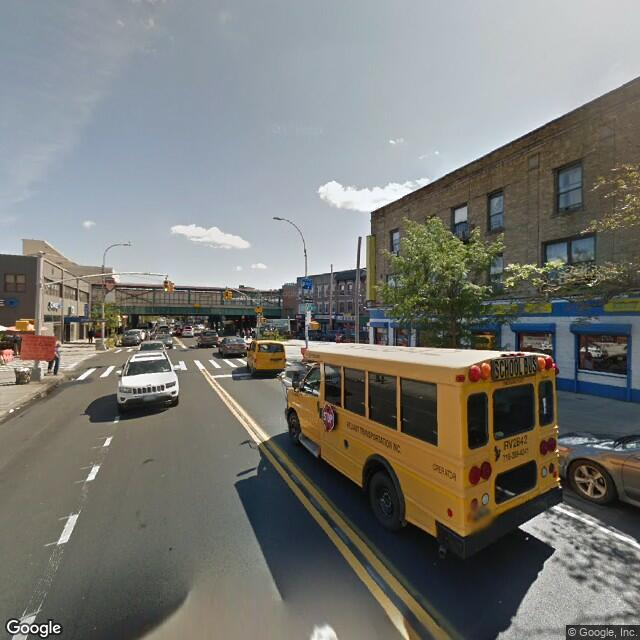litter: (5, 408, 21, 417)
